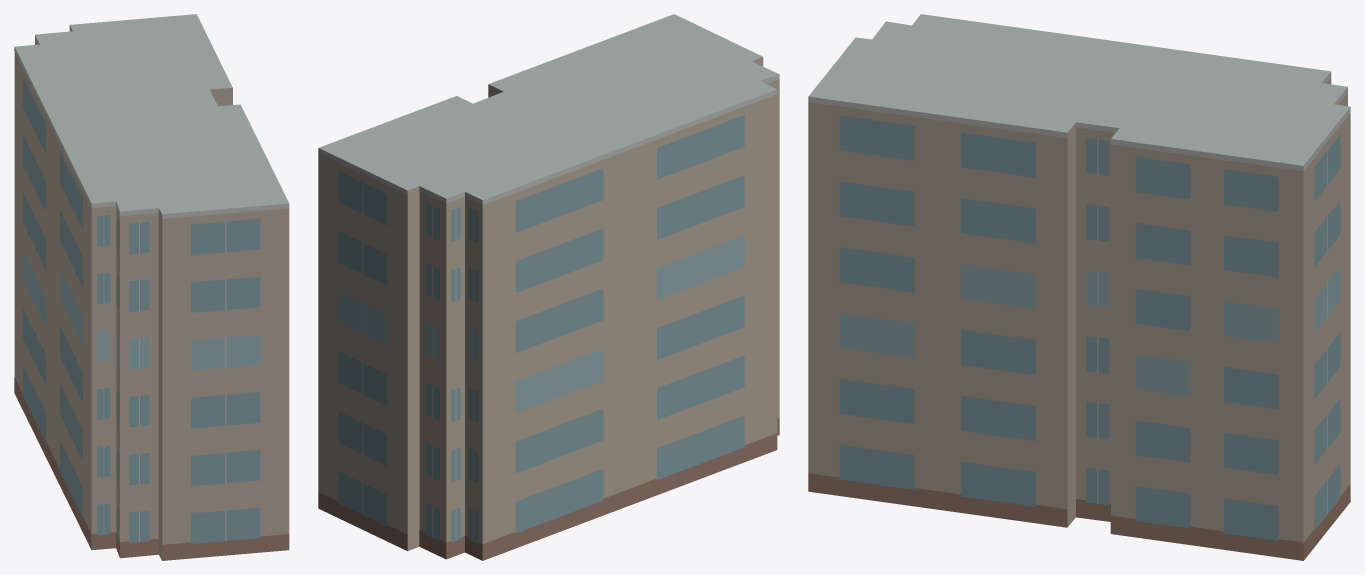
File: survey-upis-32847974.glb
3 renders of one model, left to right at view 1: azimuth 30°, elevation 25°; view 2: azimuth 150°, elevation 25°; view 3: azimuth 270°, elevation 25°, orthographic. The views are drawn at different scales.
Visible parts, largest first — view 1: survey-upis-32847974.tmp; view 2: survey-upis-32847974.tmp; view 3: survey-upis-32847974.tmp.
Boxes of the visible parts, x1=… form: survey-upis-32847974.tmp: x1=14, y1=14, x2=289, y2=560; survey-upis-32847974.tmp: x1=318, y1=14, x2=779, y2=560; survey-upis-32847974.tmp: x1=808, y1=14, x2=1350, y2=560.
Bounding box in the file's own units: 14.48 × 17.55 × 21.85.
